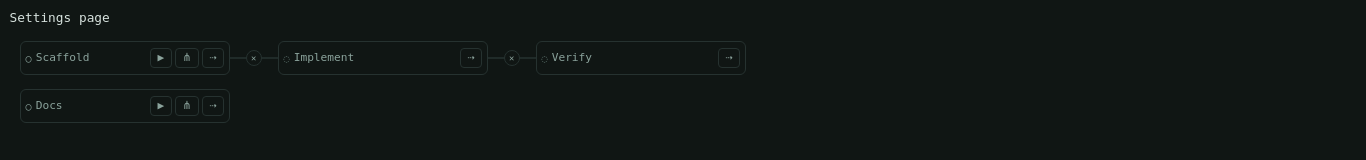
it: PlanCanvas › arms a link source and draws the edge onto the next clicked node
Click the button named "Link from Scaffold".
click(213, 58)  # box [202,48,224,68]
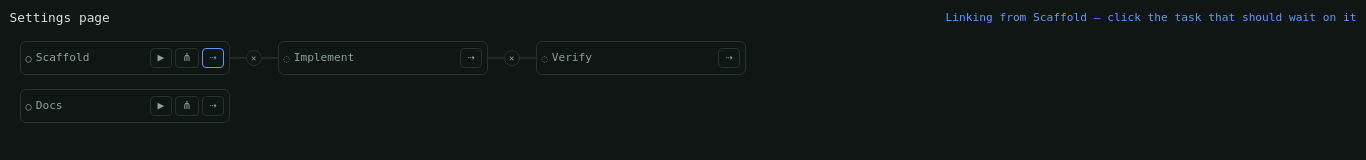
Now the message shows "Linking from Scaffold", box [946,11,1356,24]
// Node bodies now offer the link target action instead of tracing.
Click the button with aria-label "Make Docs depend on Scaffold".
click(86, 106)  # box [25,100,147,112]
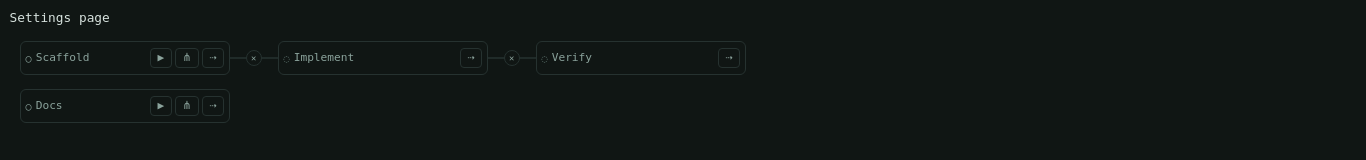
Now the message "Linking from Scaffold — click the task that should wait on it" is gone
